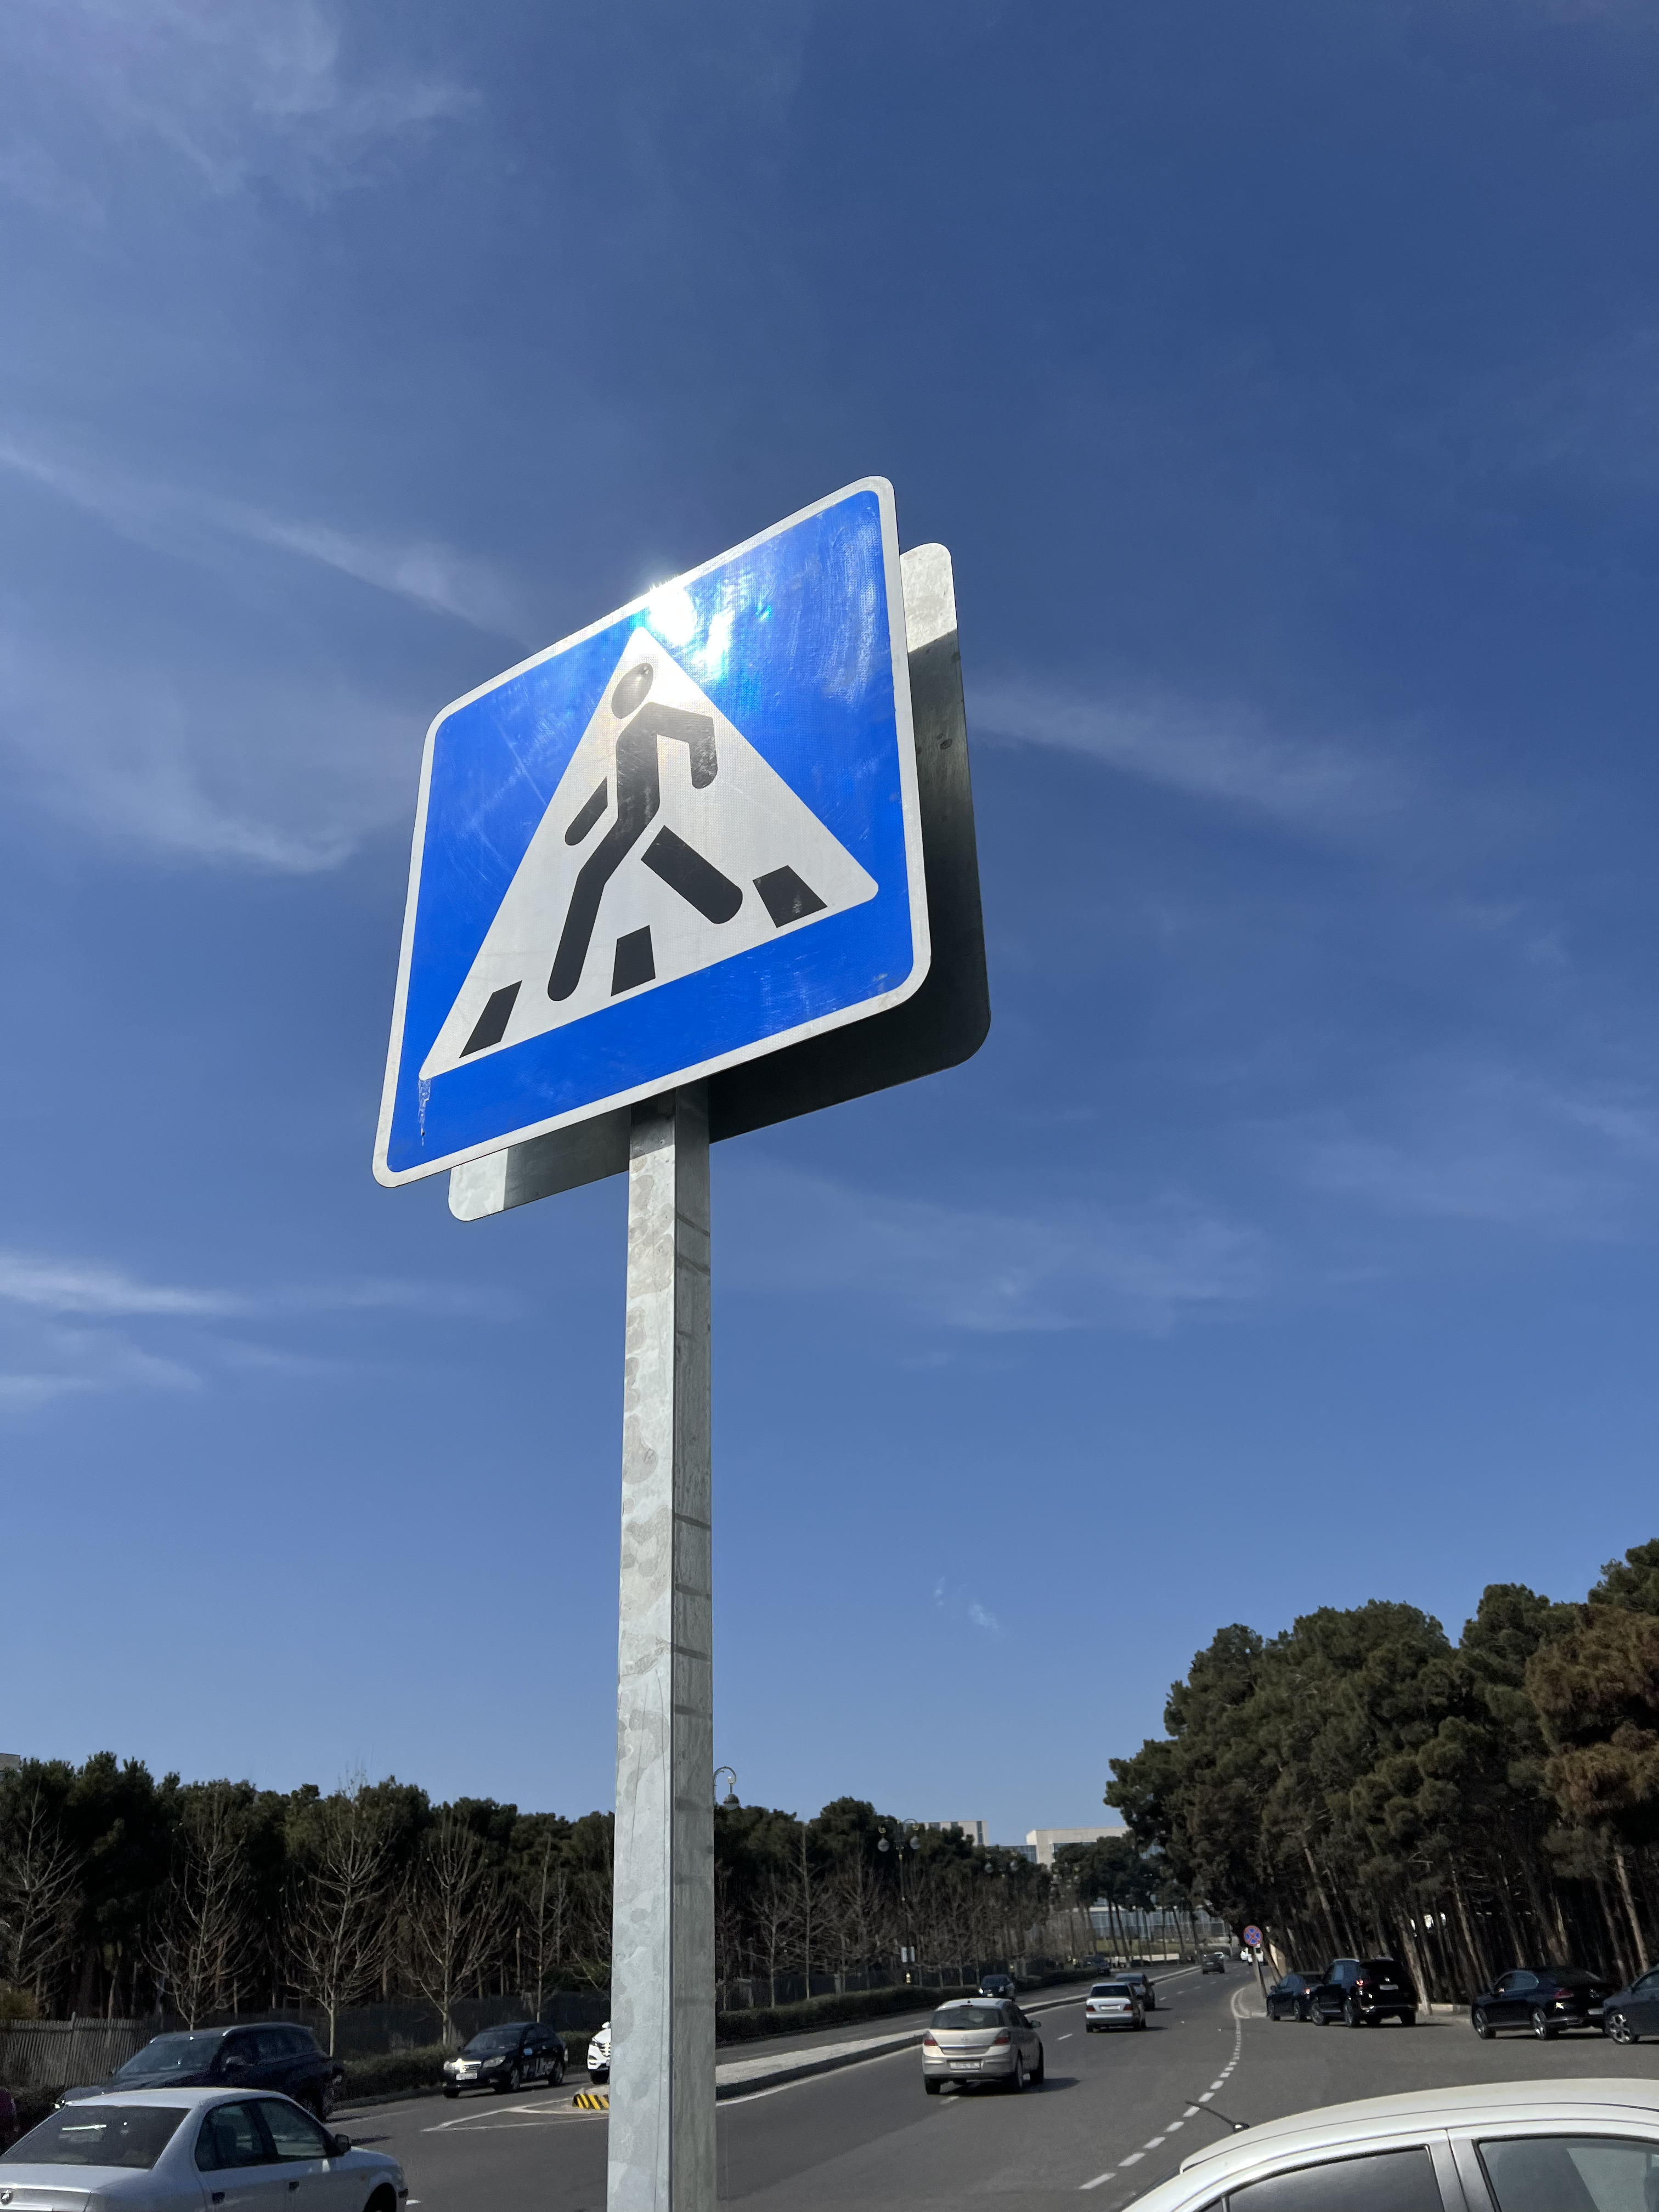Pedestrian Crossing: (375, 474, 903, 1163)
